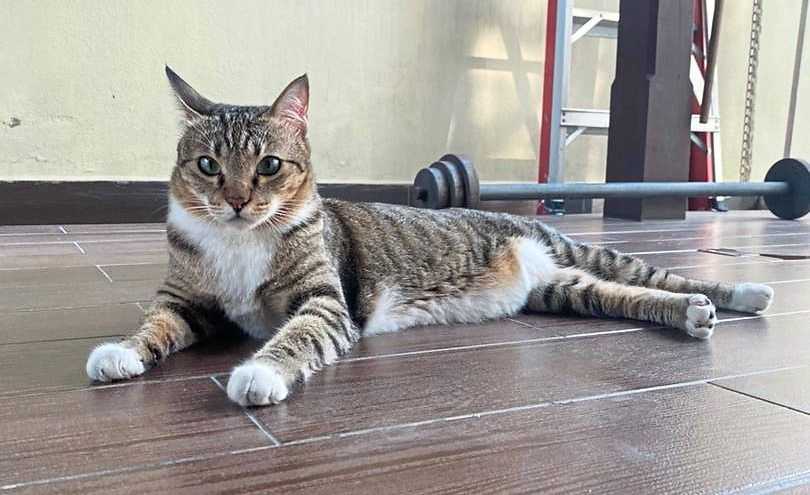cat: (84, 63, 774, 407)
